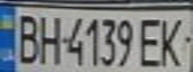1: (81, 14, 100, 66)
3: (100, 15, 118, 67)
4: (60, 12, 84, 66)
9: (115, 15, 139, 67)
B: (9, 10, 42, 65)
E: (136, 15, 166, 69)
H: (33, 11, 63, 65)
K: (154, 12, 190, 69)
